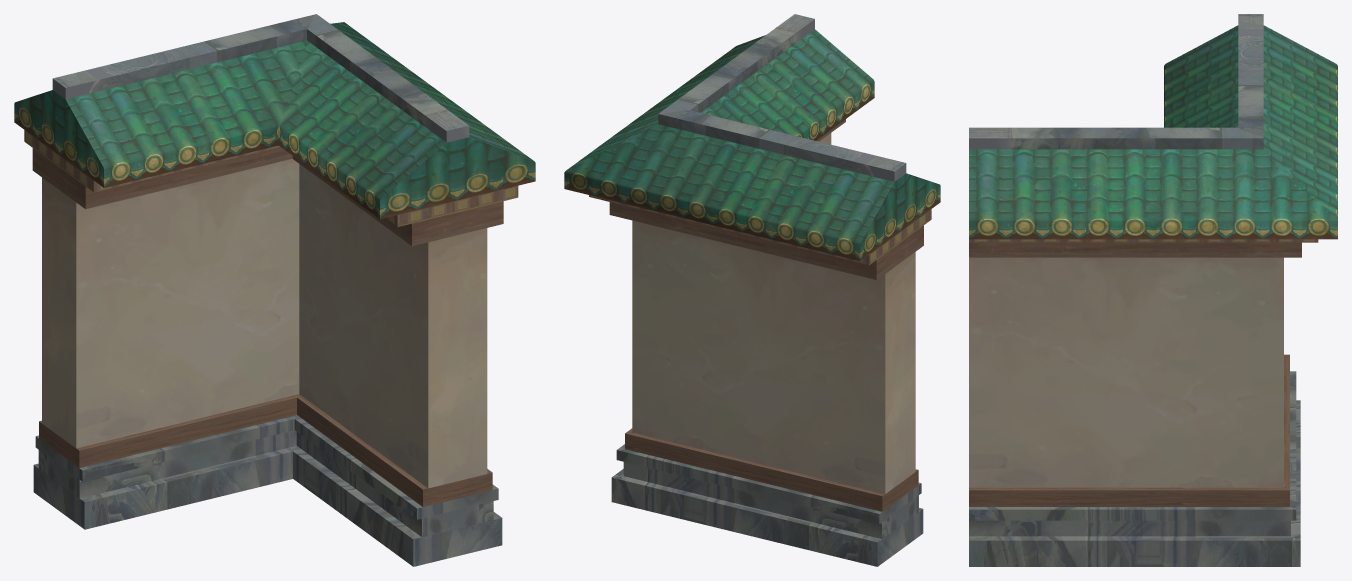
Rendered from Homeworld_Exterior_Ly_Build_Wall_03_Vo.fbx.
3 renders of one model, left to right at view 1: azimuth 30°, elevation 25°; view 2: azimuth 150°, elevation 25°; view 3: azimuth 270°, elevation 25°, orthographic. The views are drawn at different scales.
Parts seen in each view (by area): view 1: Homeworld_Exterior_Ly_Build_Wall_03_Vo; view 2: Homeworld_Exterior_Ly_Build_Wall_03_Vo; view 3: Homeworld_Exterior_Ly_Build_Wall_03_Vo.
Part boxes in pixels (x1,y1,x2,y2): Homeworld_Exterior_Ly_Build_Wall_03_Vo: (14, 14, 535, 566); Homeworld_Exterior_Ly_Build_Wall_03_Vo: (564, 14, 940, 566); Homeworld_Exterior_Ly_Build_Wall_03_Vo: (969, 14, 1337, 566).
Size of the model in its own units: 3.27 by 4.04 by 3.27.
